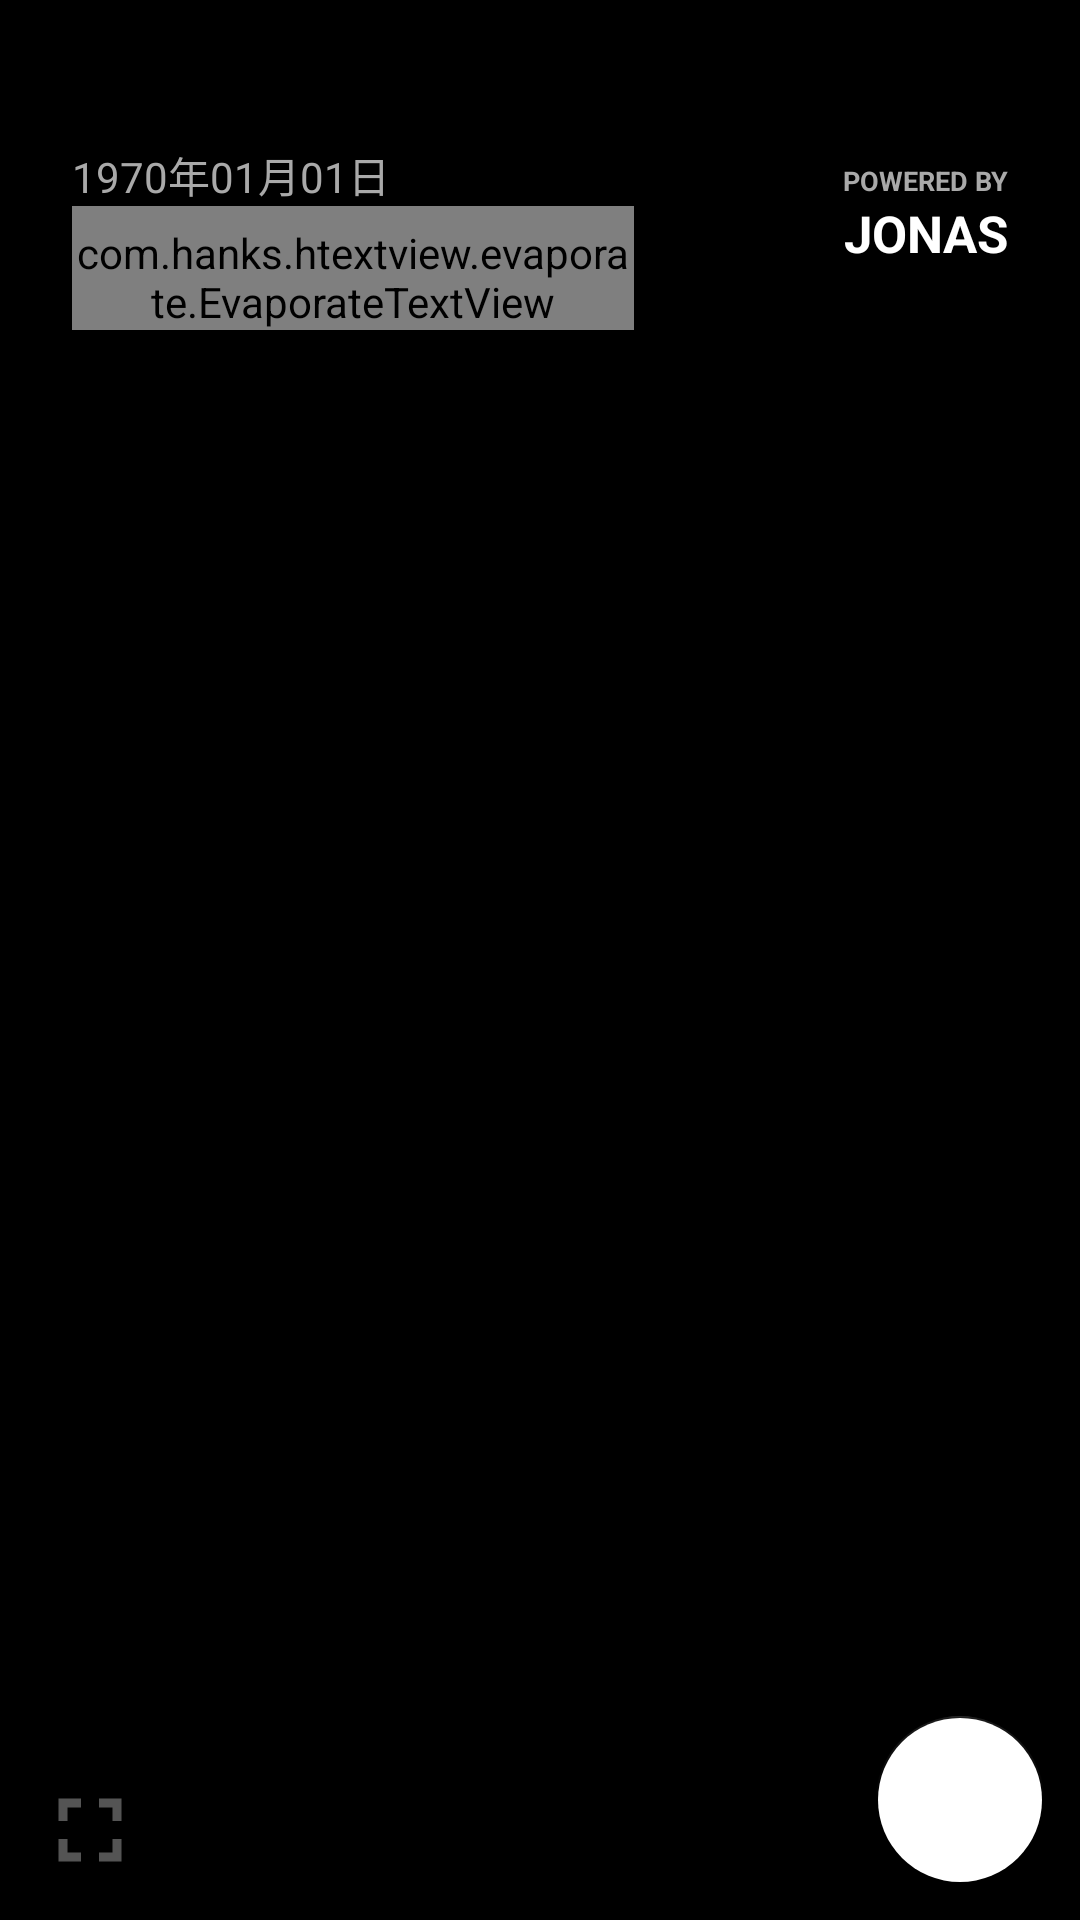

Icon bounding boxes for this 1080 x 1920 phone screenshot, format [x1, y1, x2, y2]:
fullscreen: [58, 1798, 122, 1862]
